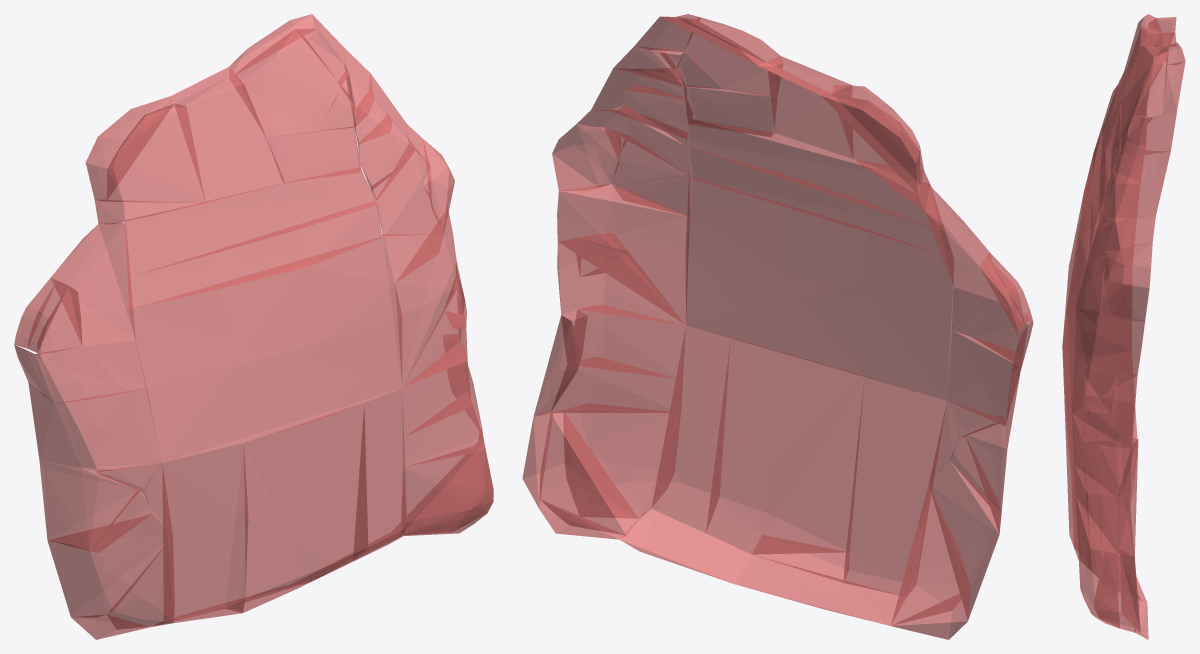
Rendered from env_excavationsite_mountainpiece01_col.fbx.
3 renders of one model, left to right at view 1: azimuth 30°, elevation 25°; view 2: azimuth 150°, elevation 25°; view 3: azimuth 270°, elevation 25°, orthographic. The views are drawn at different scales.
Visible parts, largest first — view 1: mountainpiece01_col_19, mountainpiece01_col_16, mountainpiece01_col_41, mountainpiece01_col_11, mountainpiece01_col_48, mountainpiece01_col_10, mountainpiece01_col_21, mountainpiece01_col_3, mountainpiece01_col_1, mountainpiece01_col_4, mountainpiece01_col_44, mountainpiece01_col_64 (+34 smaller); view 2: mountainpiece01_col_19, mountainpiece01_col_16, mountainpiece01_col_41, mountainpiece01_col_54, mountainpiece01_col_64, mountainpiece01_col_44, mountainpiece01_col_11, mountainpiece01_col_48, mountainpiece01_col_27, mountainpiece01_col_18, mountainpiece01_col_21, mountainpiece01_col_10 (+41 smaller); view 3: mountainpiece01_col_54, mountainpiece01_col_24, mountainpiece01_col_19, mountainpiece01_col_64, mountainpiece01_col_6, mountainpiece01_col_18, mountainpiece01_col_21, mountainpiece01_col_8, mountainpiece01_col_27, mountainpiece01_col_40, mountainpiece01_col_10, mountainpiece01_col_44 (+40 smaller).
Boxes of the visible parts, <box> form: mountainpiece01_col_19: <box>129,237,402,462</box>; mountainpiece01_col_16: <box>244,403,368,598</box>; mountainpiece01_col_41: <box>162,443,248,622</box>; mountainpiece01_col_11: <box>125,167,376,277</box>; mountainpiece01_col_48: <box>127,201,381,309</box>; mountainpiece01_col_10: <box>175,74,285,202</box>; mountainpiece01_col_21: <box>47,514,172,617</box>; mountainpiece01_col_3: <box>230,29,341,137</box>; mountainpiece01_col_1: <box>51,222,135,346</box>; mountainpiece01_col_4: <box>106,103,205,203</box>; mountainpiece01_col_44: <box>353,388,406,560</box>; mountainpiece01_col_64: <box>401,443,493,535</box>; mountainpiece01_col_19: <box>686,177,953,400</box>; mountainpiece01_col_16: <box>706,338,864,554</box>; mountainpiece01_col_41: <box>844,377,946,596</box>; mountainpiece01_col_54: <box>557,184,689,324</box>; mountainpiece01_col_64: <box>563,403,680,518</box>; mountainpiece01_col_44: <box>651,325,730,533</box>; mountainpiece01_col_11: <box>686,119,945,231</box>; mountainpiece01_col_48: <box>686,146,952,257</box>; mountainpiece01_col_27: <box>539,411,638,535</box>; mountainpiece01_col_18: <box>574,305,685,379</box>; mountainpiece01_col_21: <box>929,461,1000,620</box>; mountainpiece01_col_10: <box>767,56,853,158</box>; mountainpiece01_col_54: <box>1072,308,1144,412</box>; mountainpiece01_col_24: <box>1081,266,1131,355</box>; mountainpiece01_col_19: <box>1062,157,1092,412</box>; mountainpiece01_col_64: <box>1075,497,1119,628</box>; mountainpiece01_col_6: <box>1100,241,1152,315</box>; mountainpiece01_col_18: <box>1072,414,1117,497</box>; mountainpiece01_col_21: <box>1078,351,1137,447</box>; mountainpiece01_col_8: <box>1074,466,1117,553</box>; mountainpiece01_col_27: <box>1094,551,1140,632</box>; mountainpiece01_col_40: <box>1093,187,1139,274</box>; mountainpiece01_col_10: <box>1105,26,1162,148</box>; mountainpiece01_col_44: <box>1068,399,1101,577</box>.
Size of the model in its own units: 769 by 855 by 176.
